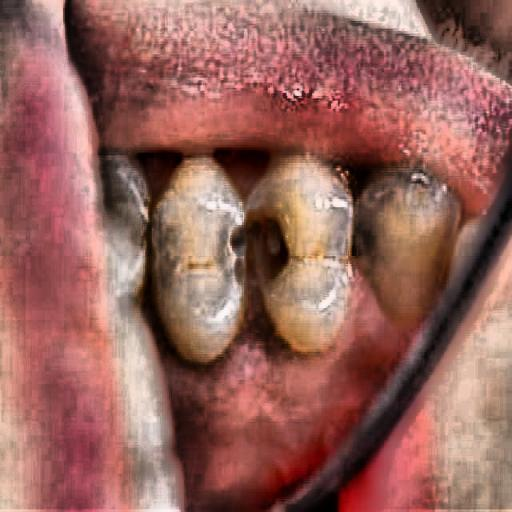Caries: (200, 182, 346, 313)
